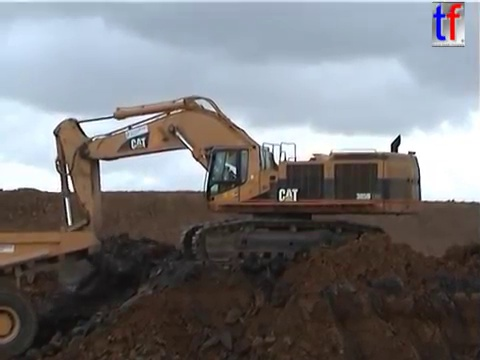excavator: (49, 93, 425, 297)
truck: (1, 228, 104, 360)
